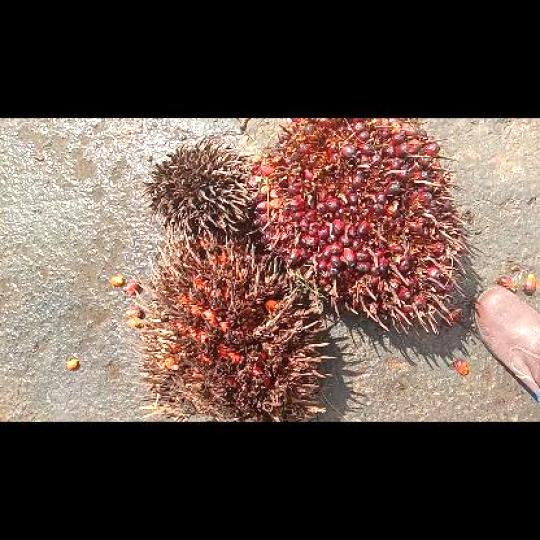masak: (248, 118, 471, 331)
terlalu masak: (124, 231, 338, 422)
